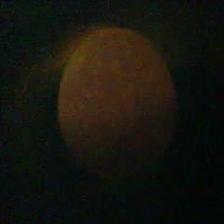fertile: (52, 23, 183, 176)
